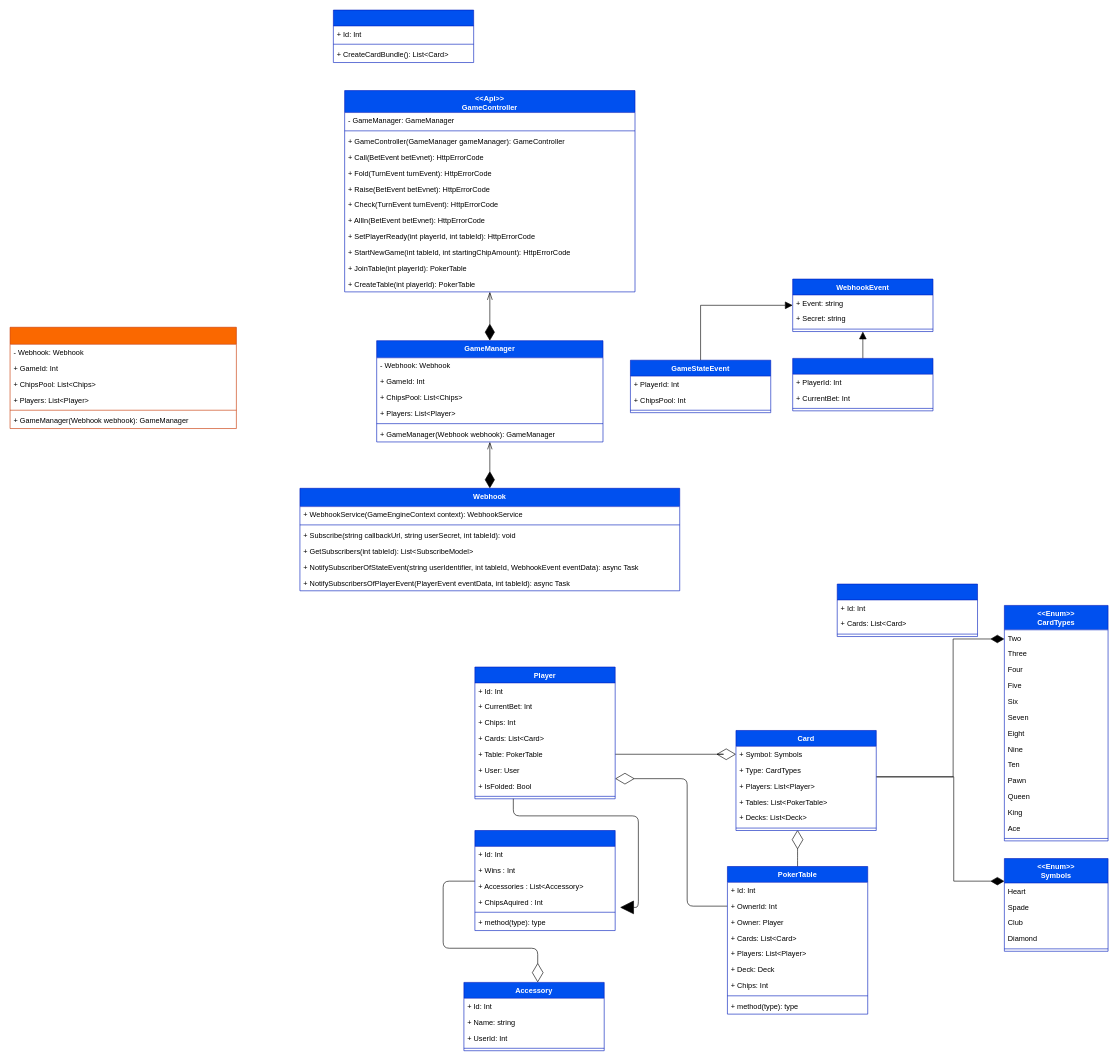
Image size: 1118x1061. Some labels were removed from this diagram. The box of each missing label's shape, as (x1, y1, x2, y2) in pixels:
CardFactory: (333, 9, 474, 63)
DataManager?: (9, 327, 236, 429)
Deck: (837, 583, 978, 637)
PlayerEvent: (792, 358, 933, 411)
User: (474, 830, 615, 931)
